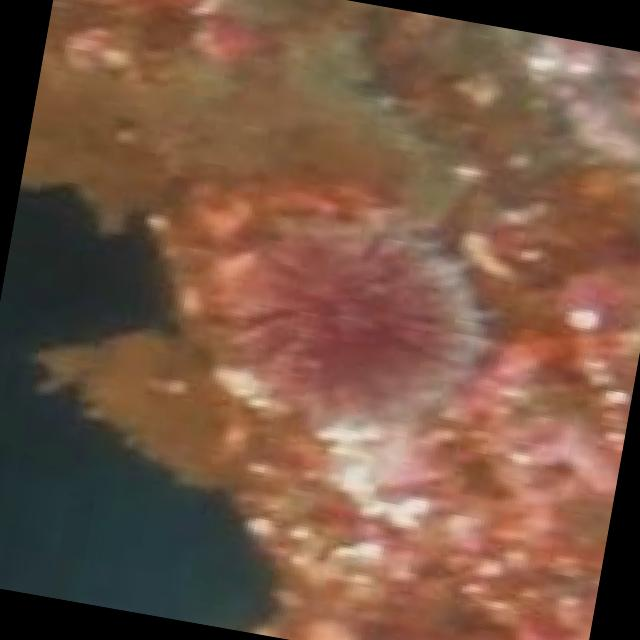Deniz Kestanesi: (199, 202, 511, 457)
